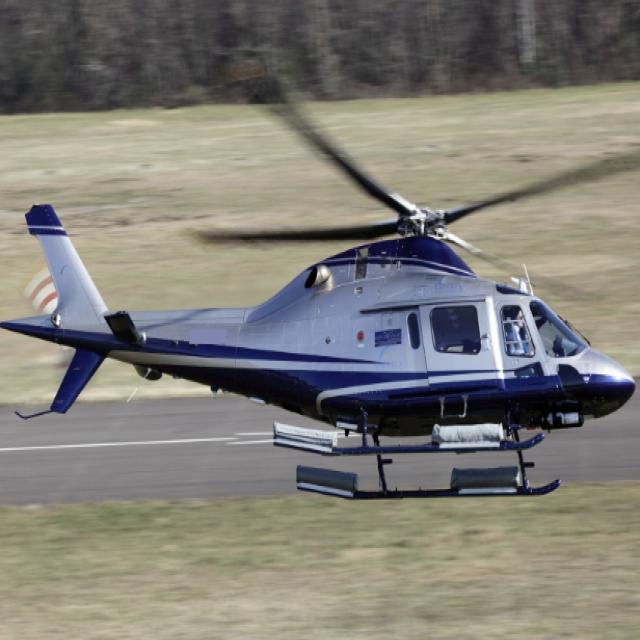helicopter: (1, 90, 640, 516)
